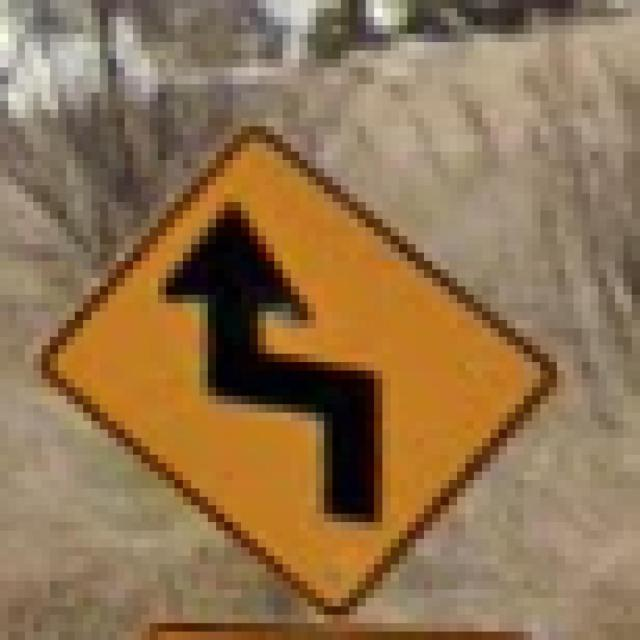Tikungan Ganda Pertama Ke Kiri: (25, 101, 557, 606)
